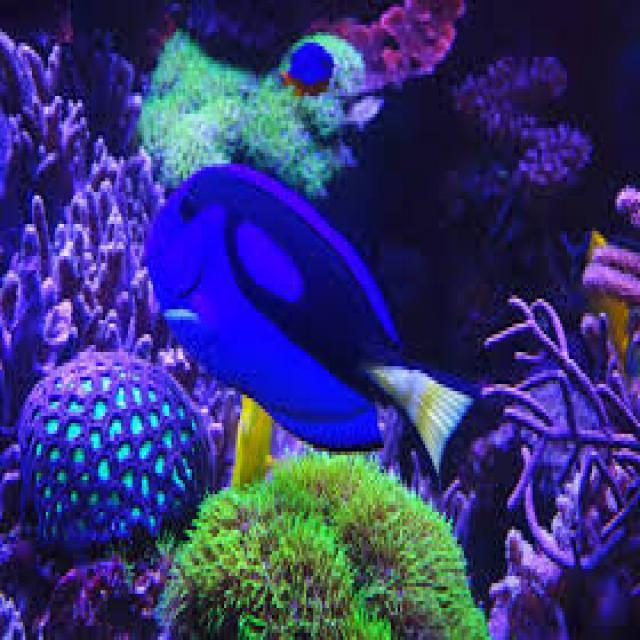TangFish: (142, 156, 473, 474)
